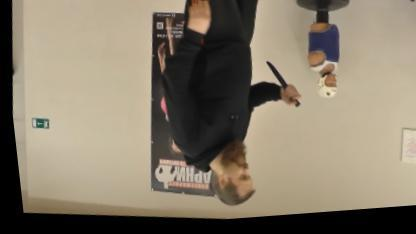knife: (256, 61, 303, 116)
